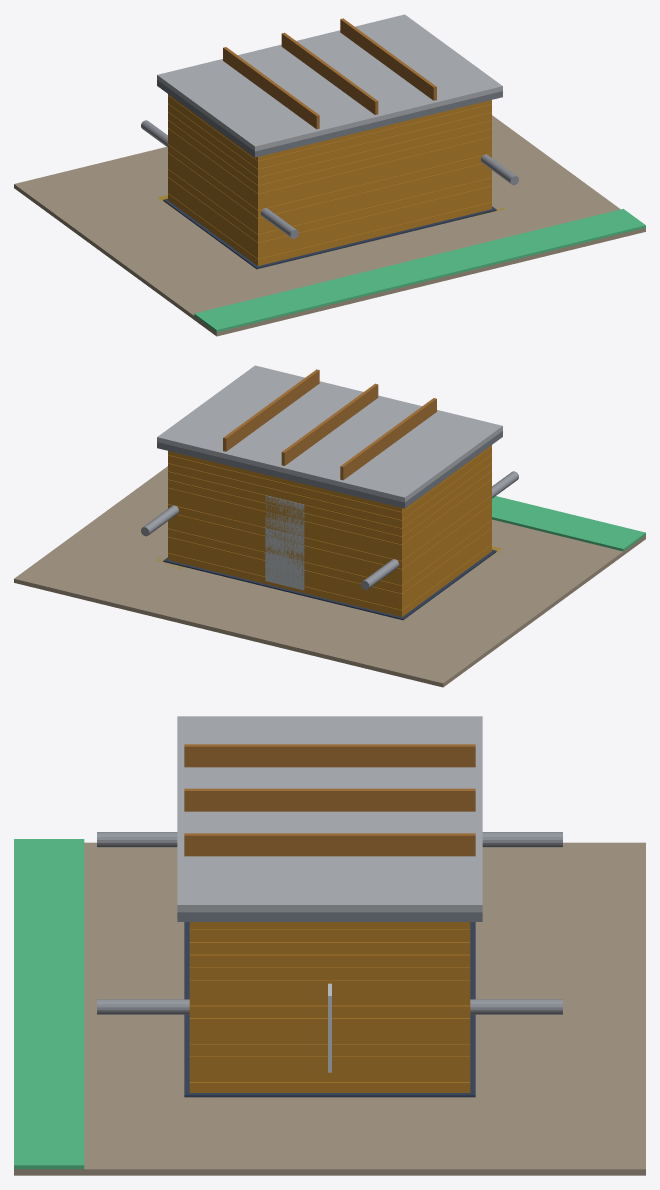
Rendered from stage_11_finishing.glb.
The picture shows the model from 3 angles, top to bottom: view 1: azimuth 30°, elevation 25°; view 2: azimuth 150°, elevation 25°; view 3: azimuth 270°, elevation 25°; orthographic projection. The views are drawn at different scales.
Visible parts, largest first — view 1: world; view 2: world; view 3: world.
Part boxes in pixels (left/top/right/bottom): world: left=14, top=14, right=645, bottom=336; world: left=14, top=365, right=645, bottom=687; world: left=14, top=716, right=645, bottom=1175.
Bounding box in the file's own units: 11 × 4.2 × 9.
